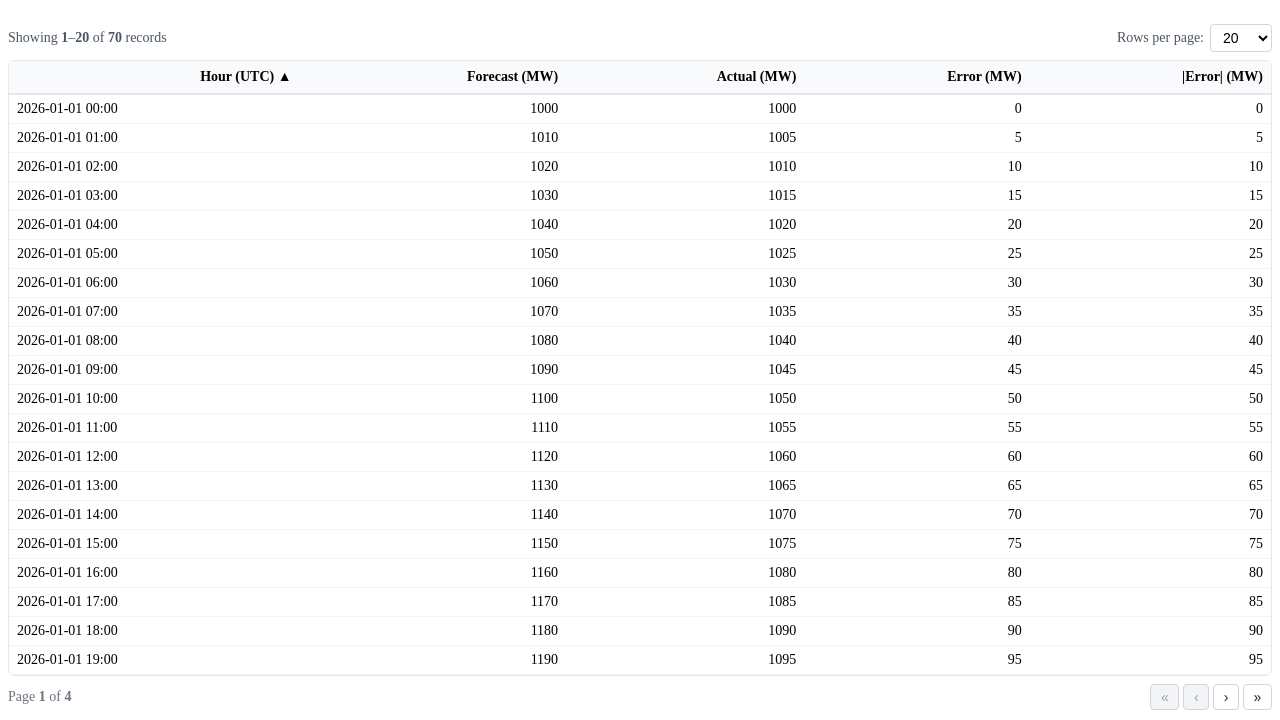
Test case: IntervalTable with Pagination › navigates through pages with Next, Previous, Last, and First buttons
The image size is (1280, 720).
Click Next
Click the button named "next page" at (1226, 697), box [1213,684,1239,710]
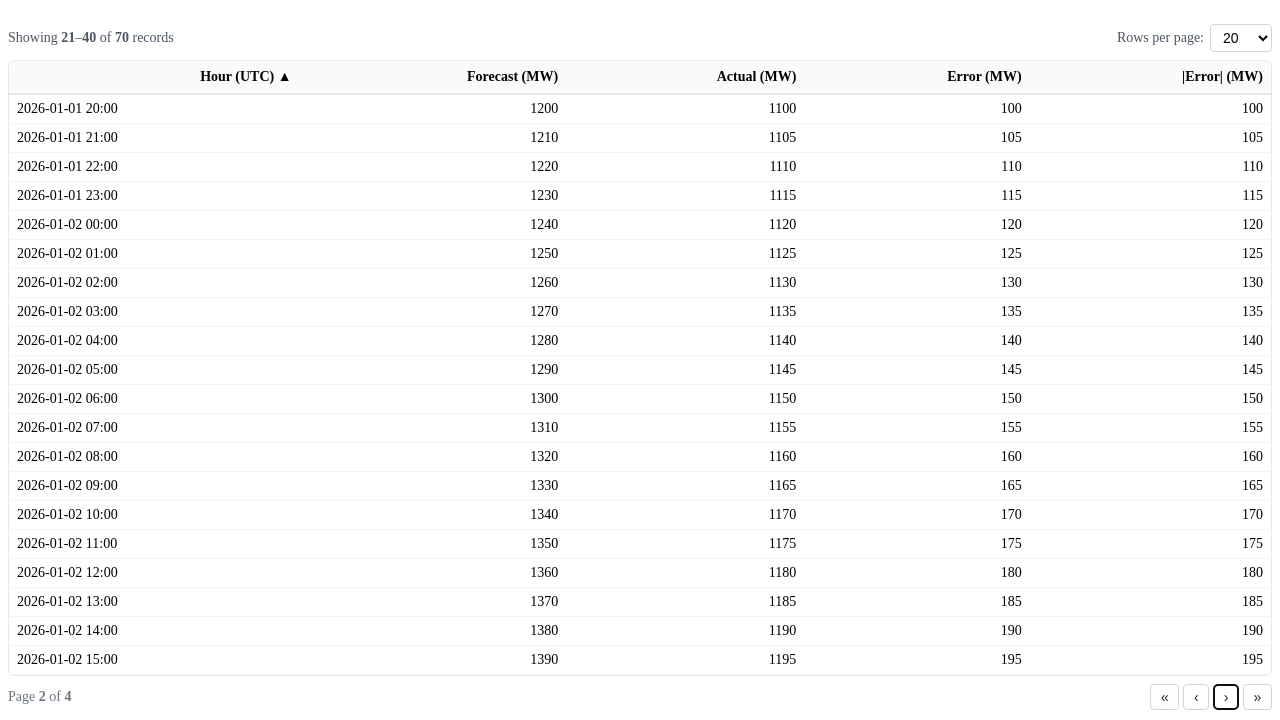
Now the text "Showing 21–40 of 70 records" is shown, box [8,30,174,46]
Now the element with test id "page-indicator" reads "Page 2 of 4", box [8,689,71,705]
Now the button named "first page" is enabled, box [1150,684,1179,710]
Click Last
Click the button named "last page" at (1258, 697), box [1243,684,1272,710]
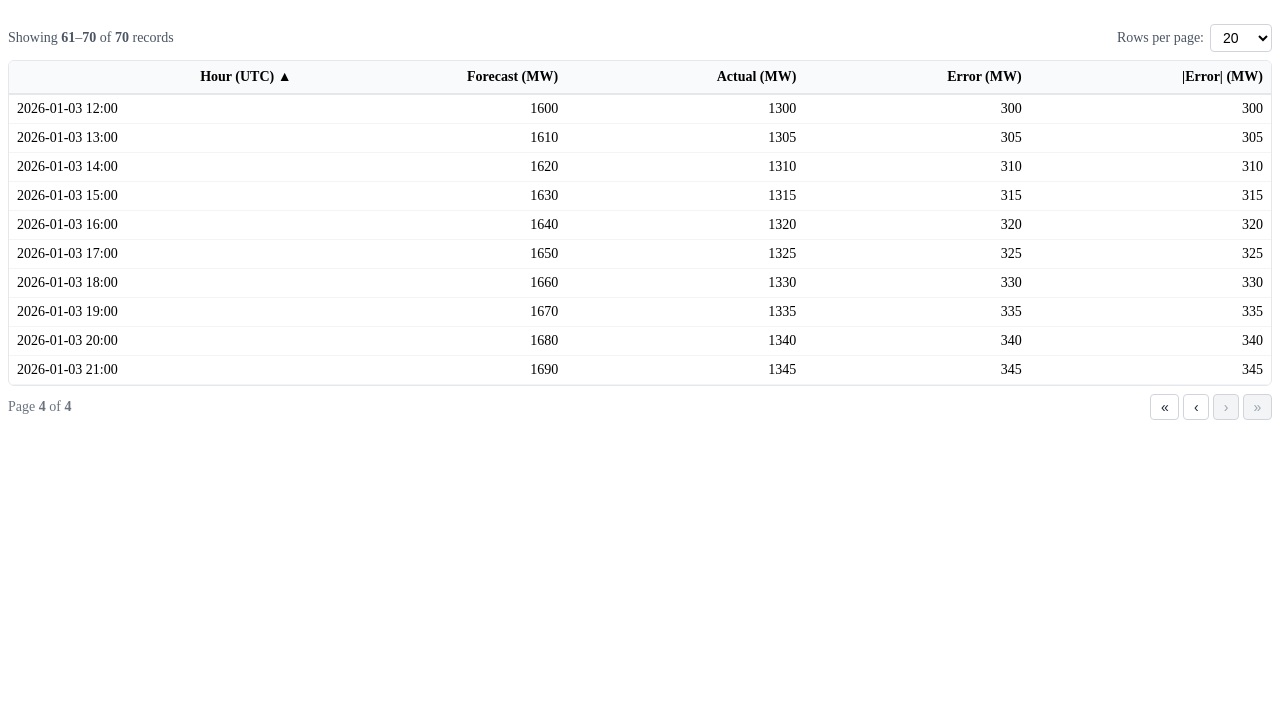
Now the text "Showing 61–70 of 70 records" is shown, box [8,30,174,46]
Now the element with test id "page-indicator" reads "Page 4 of 4", box [8,399,71,415]
Now the button named "next page" is disabled, box [1213,394,1239,420]
Click Previous
Click the button named "previous page" at (1196, 407), box [1183,394,1209,420]
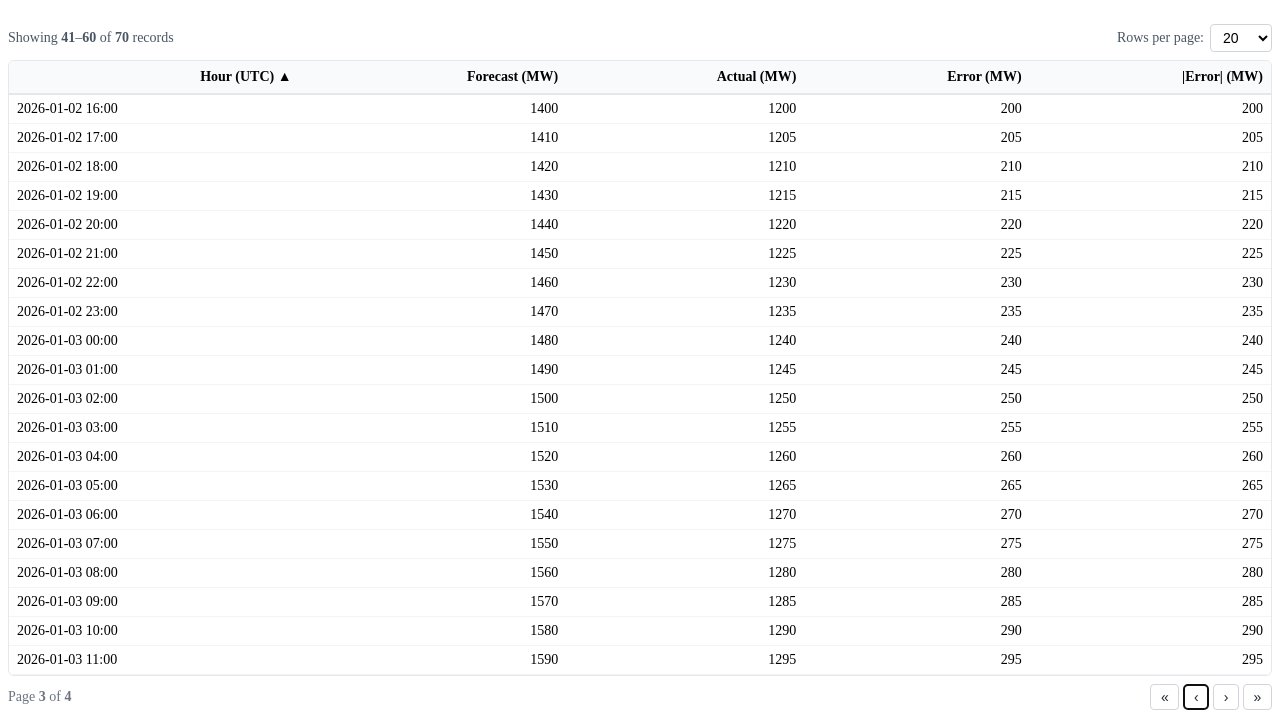
Now the text "Showing 41–60 of 70 records" is shown, box [8,30,174,46]
Now the element with test id "page-indicator" reads "Page 3 of 4", box [8,689,71,705]
Click First
Click the button named "first page" at (1165, 697), box [1150,684,1179,710]
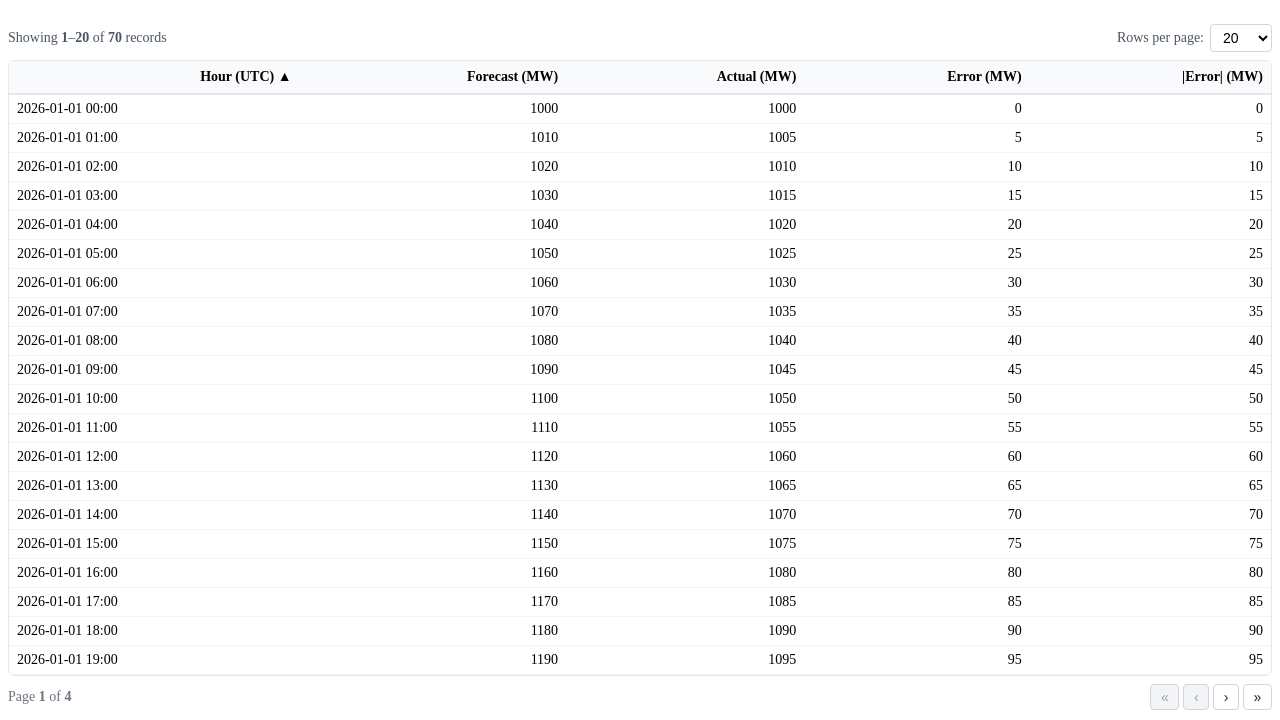
Now the text "Showing 1–20 of 70 records" is shown, box [8,30,167,46]
Now the element with test id "page-indicator" reads "Page 1 of 4", box [8,689,71,705]
